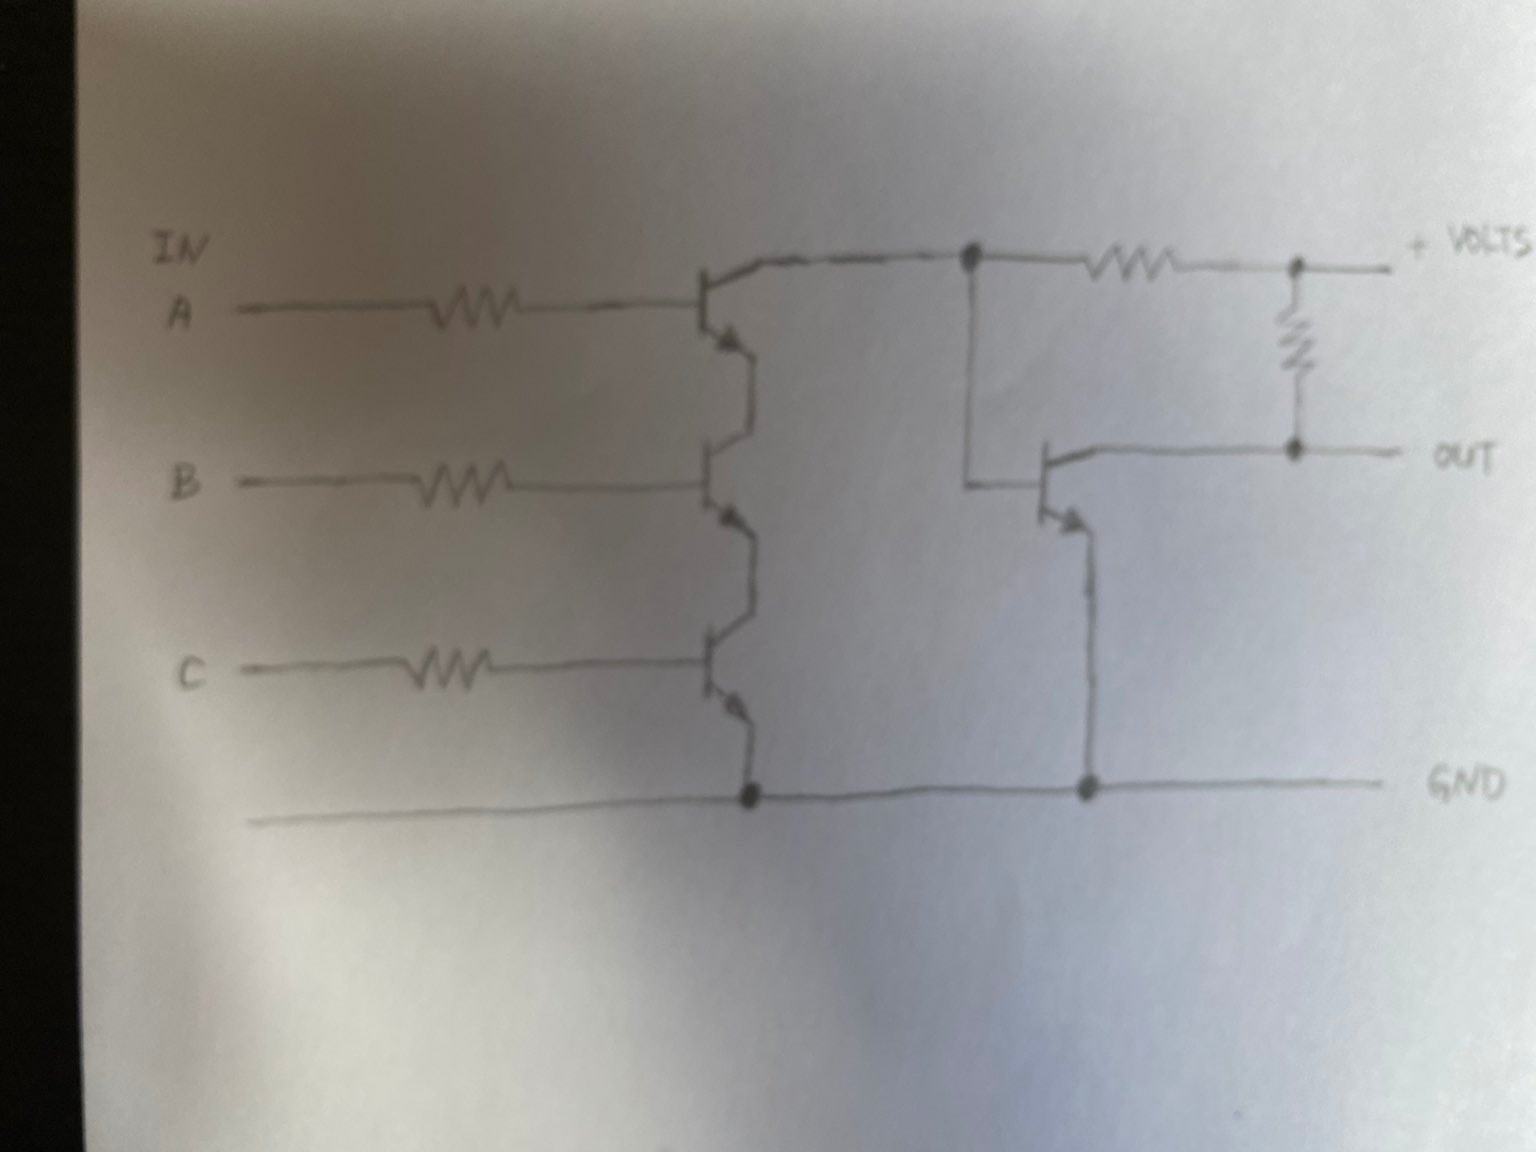junction: (717, 768, 779, 822), (1059, 750, 1108, 818), (943, 227, 993, 287), (1274, 424, 1323, 472), (1271, 246, 1318, 287)
resistor: (1075, 227, 1189, 298), (420, 280, 545, 340), (409, 456, 526, 520), (394, 637, 512, 699), (1271, 296, 1330, 381)
terminal: (1380, 433, 1414, 470), (1362, 766, 1396, 800), (229, 651, 258, 687), (225, 293, 258, 324), (227, 466, 258, 499), (1372, 255, 1404, 286), (239, 810, 266, 834)
text: (1410, 741, 1511, 811), (1424, 424, 1509, 488), (1445, 211, 1534, 263), (137, 215, 213, 272), (148, 286, 207, 339), (168, 637, 213, 701), (163, 454, 213, 506), (1402, 219, 1433, 270)
transistor: (689, 601, 797, 744), (1020, 424, 1118, 558), (691, 422, 791, 553), (681, 244, 789, 365)
